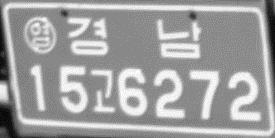1: (26, 62, 51, 112)
2: (227, 69, 263, 123), (152, 66, 187, 119)
5: (57, 63, 89, 114)
6: (117, 67, 148, 115)
7: (187, 68, 220, 123)
경남_D: (63, 15, 204, 62)
고: (87, 67, 116, 115)
영: (23, 14, 59, 54)
